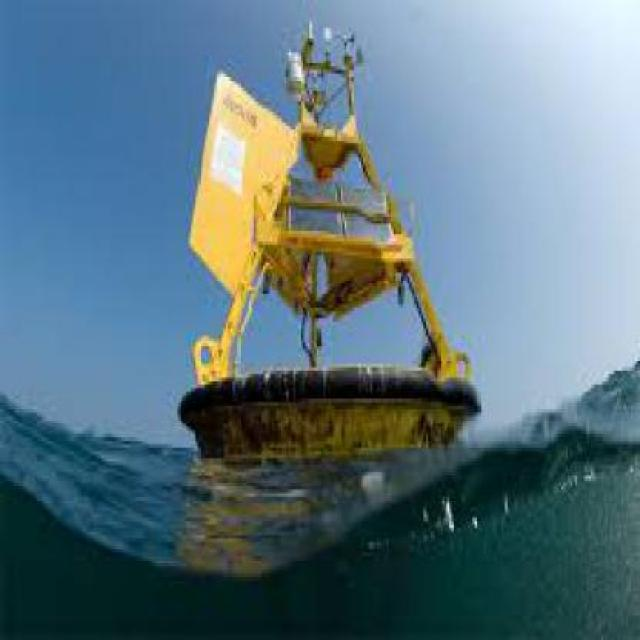buoy: (173, 26, 486, 501)
